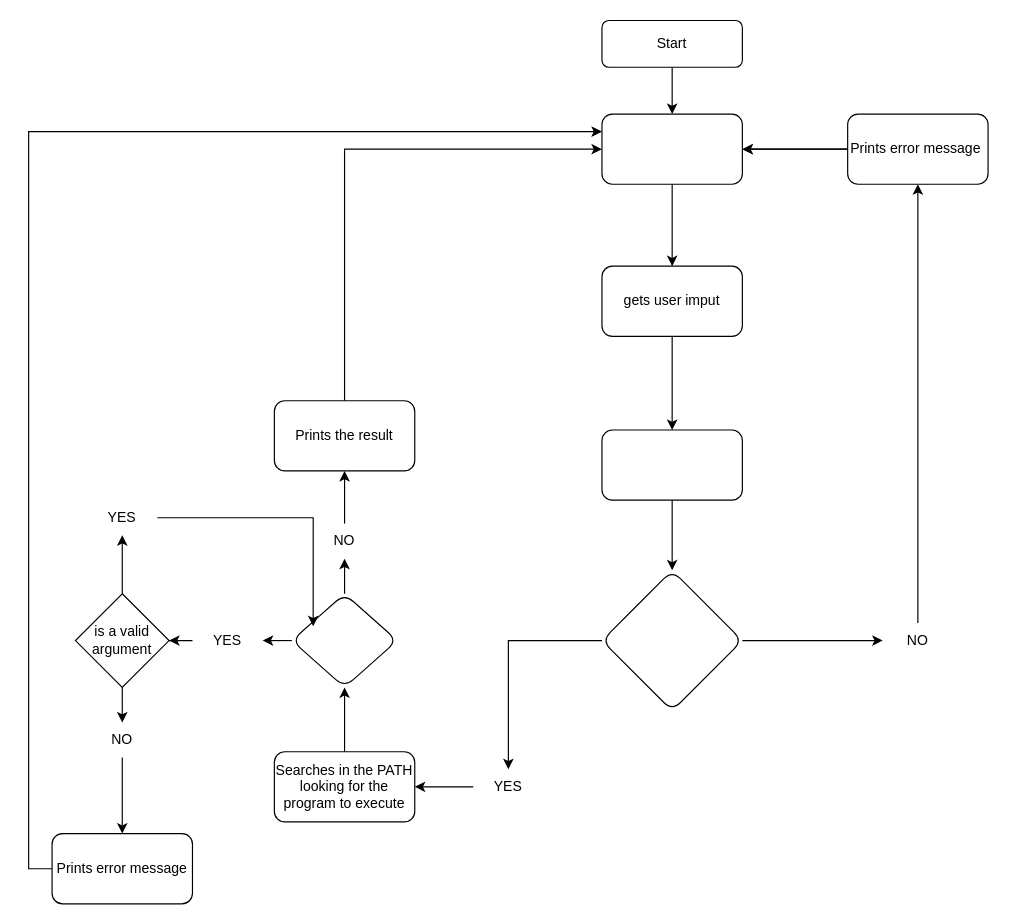
The diagram is 1009 pixels wide and 924 high, and some of its shapes have lost their labels. Each missing label, with the centre of its shape:
"Another token?" belongs at (344,640).
"Prints the prompt $" belongs at (671,148).
"token is a command or argument" belongs at (671,640).
"Tokenizes the string" belongs at (671,464).
